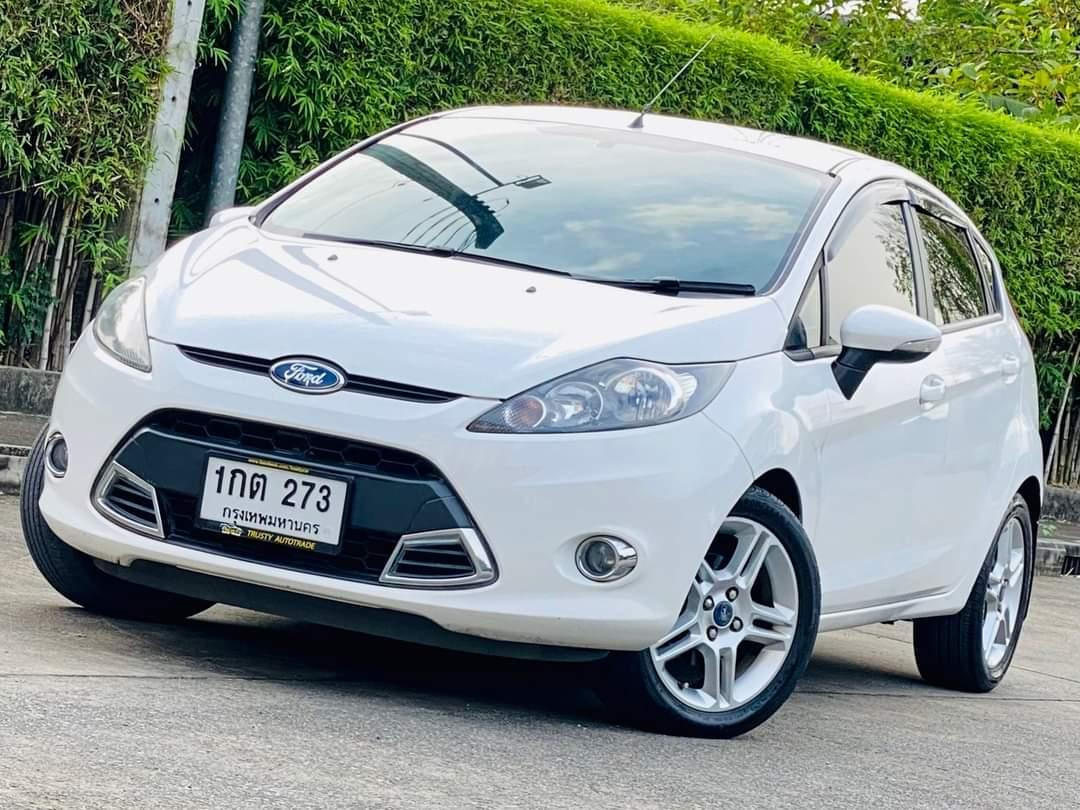license-plate: (190, 448, 362, 564)
